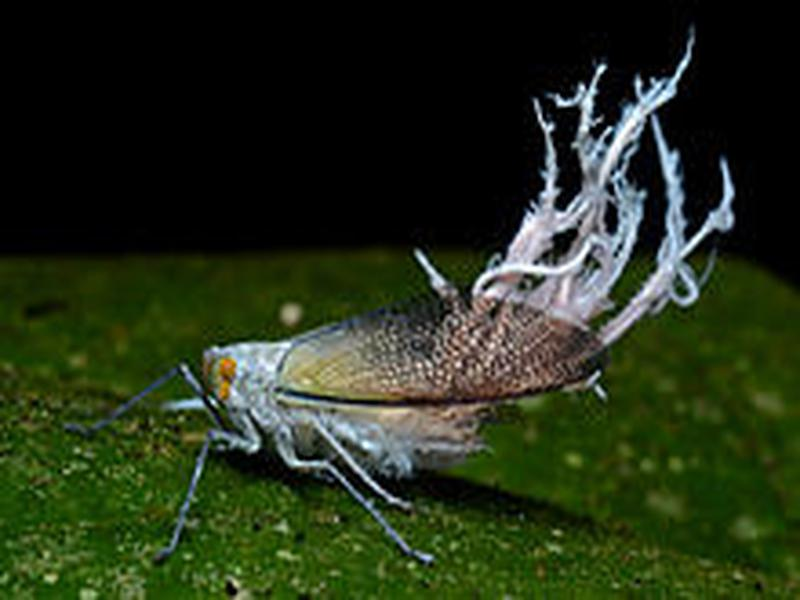White_backed_plant_hopper: (151, 288, 632, 517)
